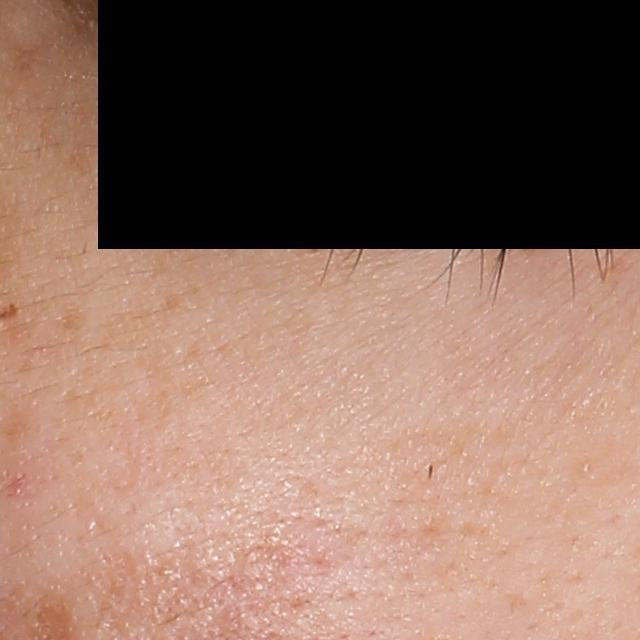melasma: (60, 302, 94, 336)
